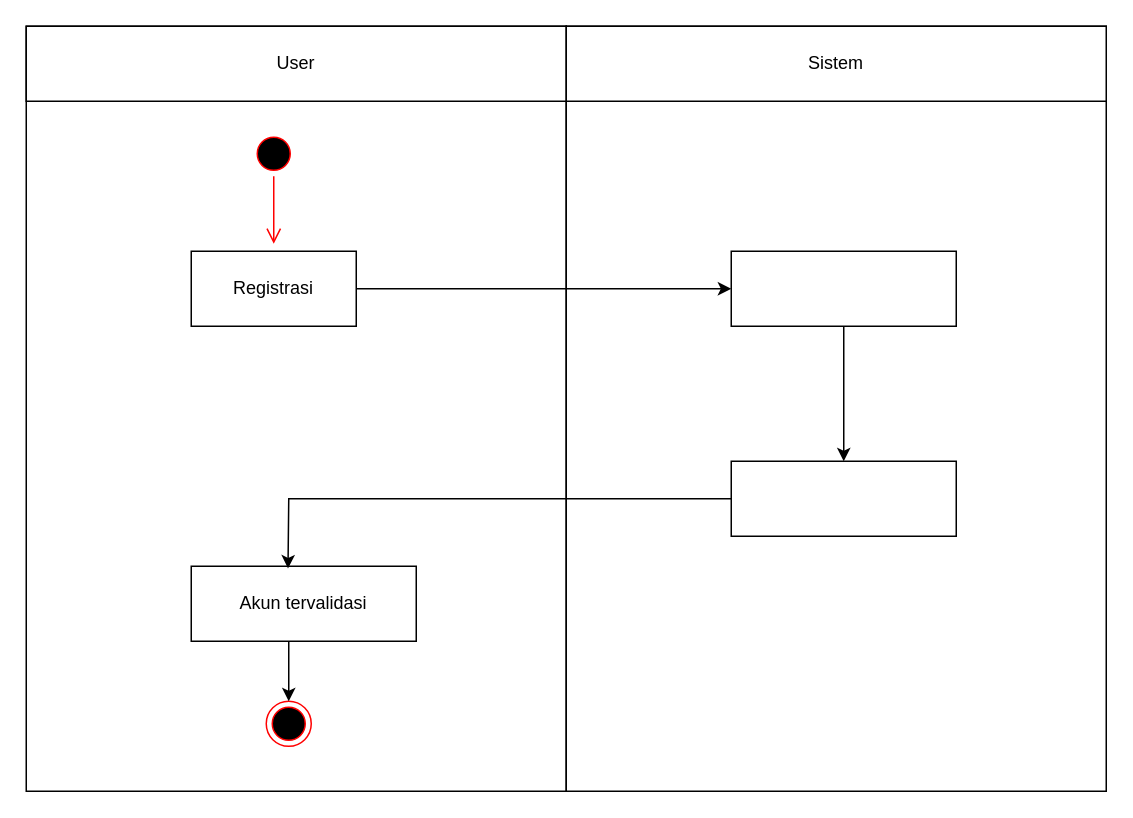
This 1133x818 diagram has some shape labels left out. The shapes that lost their labels are listed below. From the top down, each one's centre as x and y in pixels, then its label:
point (843, 288): Menampilkan form registrasi
point (843, 498): Validasi
